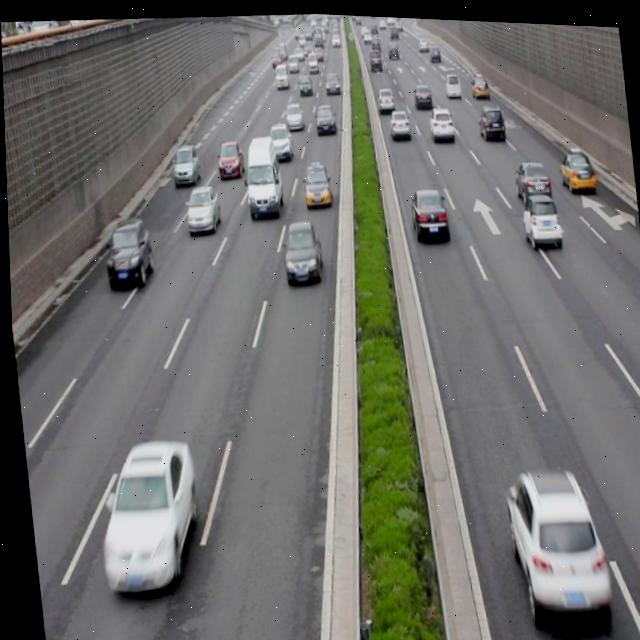car: (87, 434, 201, 598), (498, 458, 606, 614), (100, 214, 153, 286), (278, 216, 322, 283), (405, 179, 447, 241), (517, 187, 559, 241), (182, 181, 221, 233), (510, 152, 550, 201), (555, 140, 594, 189), (298, 157, 331, 205), (168, 141, 199, 185), (474, 96, 505, 138), (265, 117, 293, 160), (214, 135, 242, 174), (426, 99, 453, 138), (387, 102, 411, 137), (312, 99, 336, 134), (282, 98, 303, 128)
truck: (240, 131, 282, 216)
